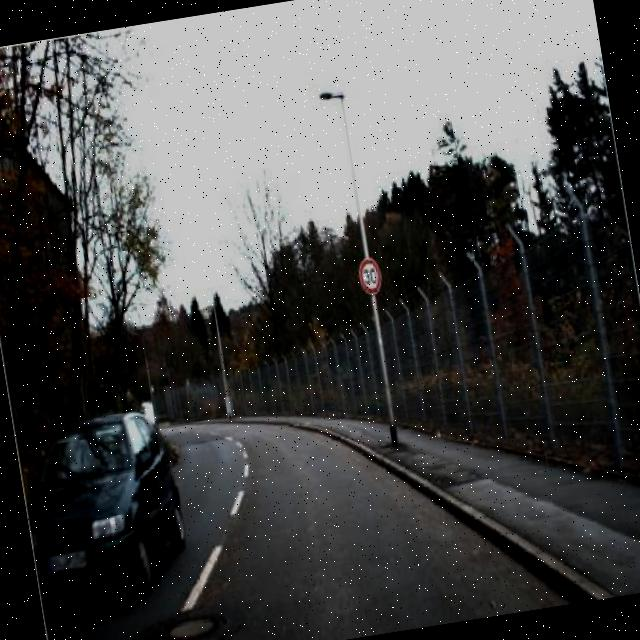Ograniczenie predkosci do 30: (356, 252, 384, 300)
